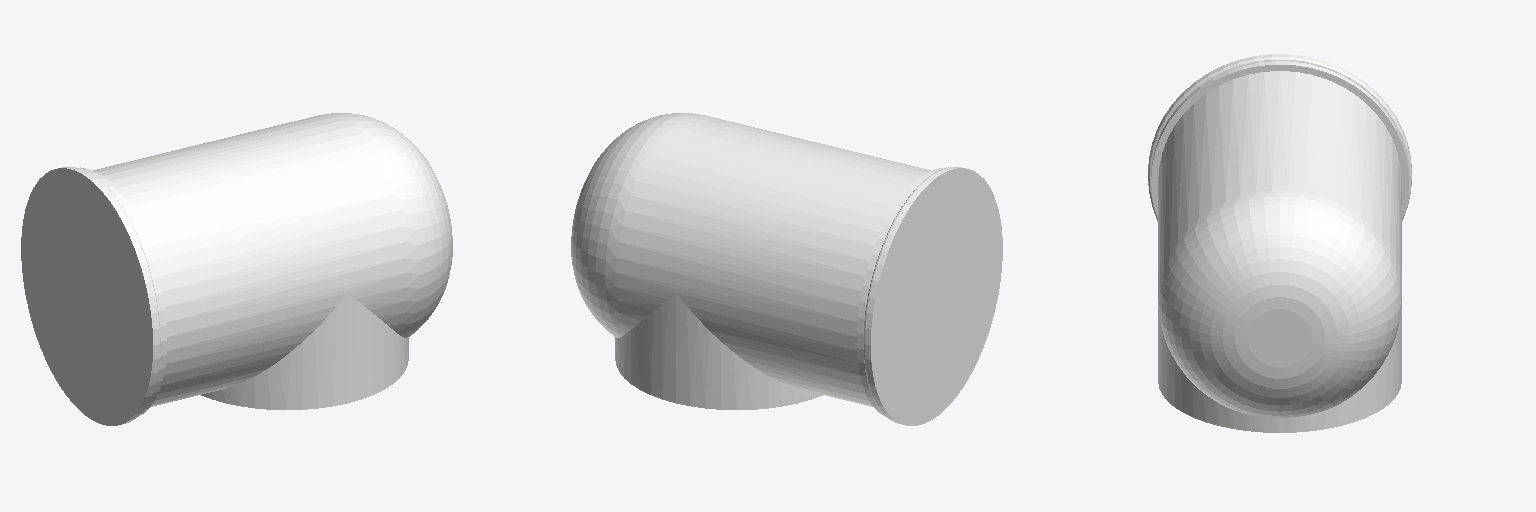
The picture shows the model from 3 angles: view 1: azimuth 30°, elevation 25°; view 2: azimuth 150°, elevation 25°; view 3: azimuth 270°, elevation 25°; orthographic projection.
Visible parts, largest first — view 1: Bryła1:1; view 2: Bryła1:1; view 3: Bryła1:1.
Boxes of the visible parts, x1=… form: Bryła1:1: x1=21, y1=113, x2=452, y2=425; Bryła1:1: x1=571, y1=113, x2=1002, y2=425; Bryła1:1: x1=1148, y1=54, x2=1411, y2=432.
Bounding box in the file's own units: 240 × 162 × 163.